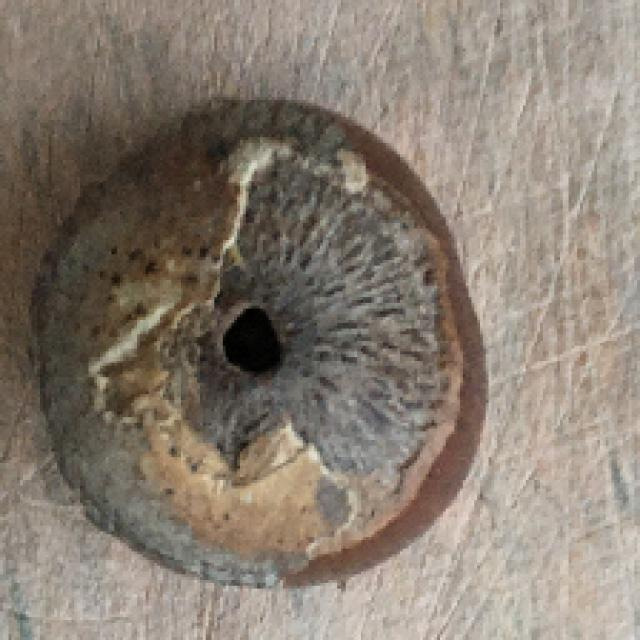damagedHazelnut: (22, 77, 493, 595)
